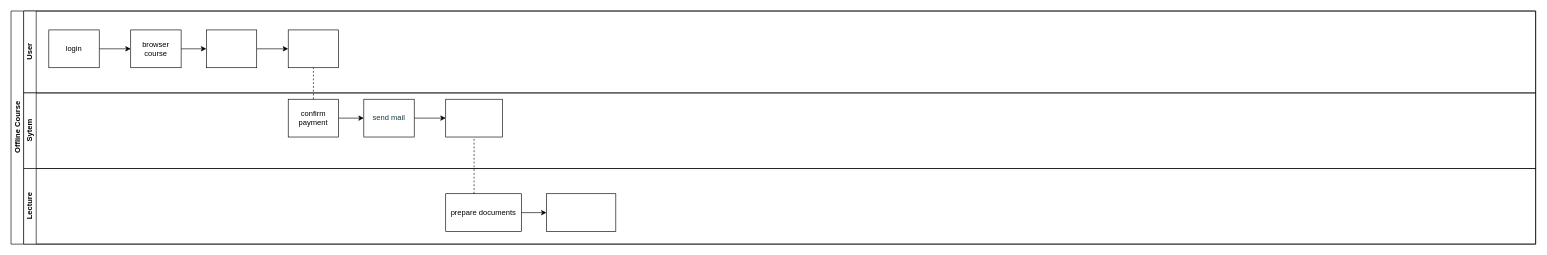
Image size: 1547x255. Some labels were removed from this diagram. Here are the shapes that lost their labels. From the top down, the centre of each, then its label:
the point at 231,48: register course
the point at 313,48: payment
the point at 473,118: add user to registration list
the point at 581,212: Teaching
